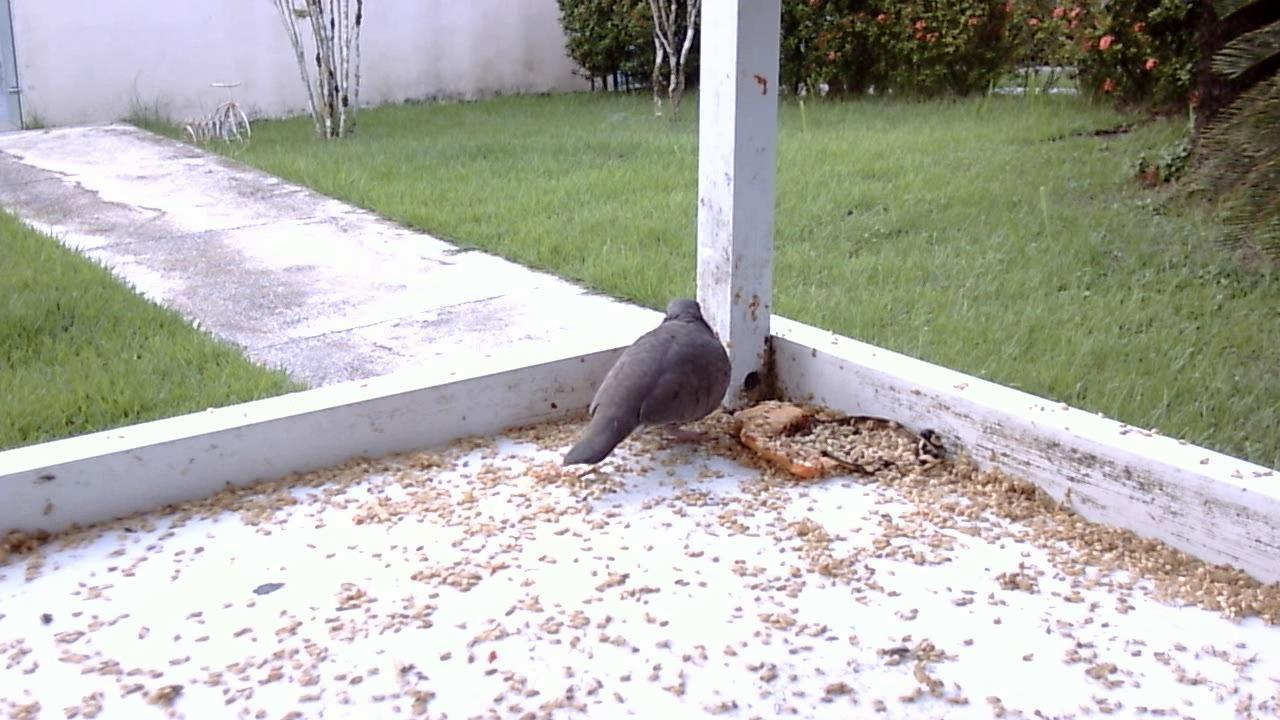rolinha: (554, 291, 734, 472)
